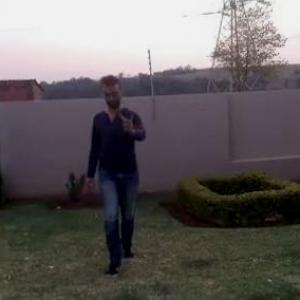takeoff-hand: (114, 102, 145, 138)
